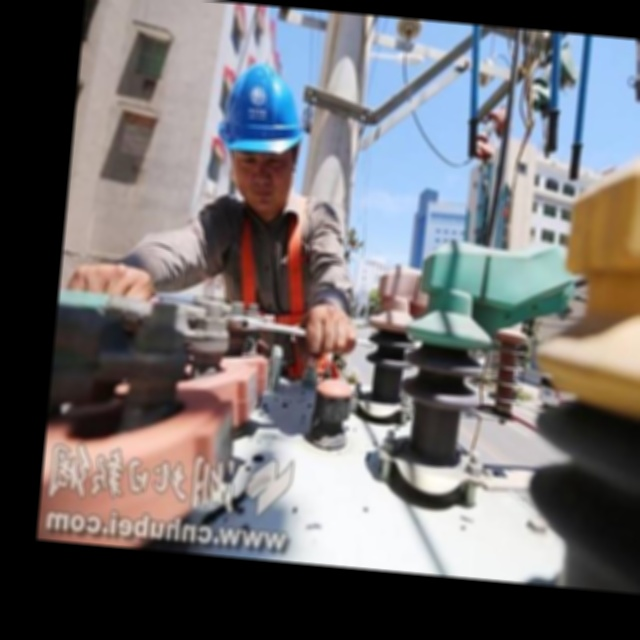Con_Casco: (213, 58, 309, 211)
